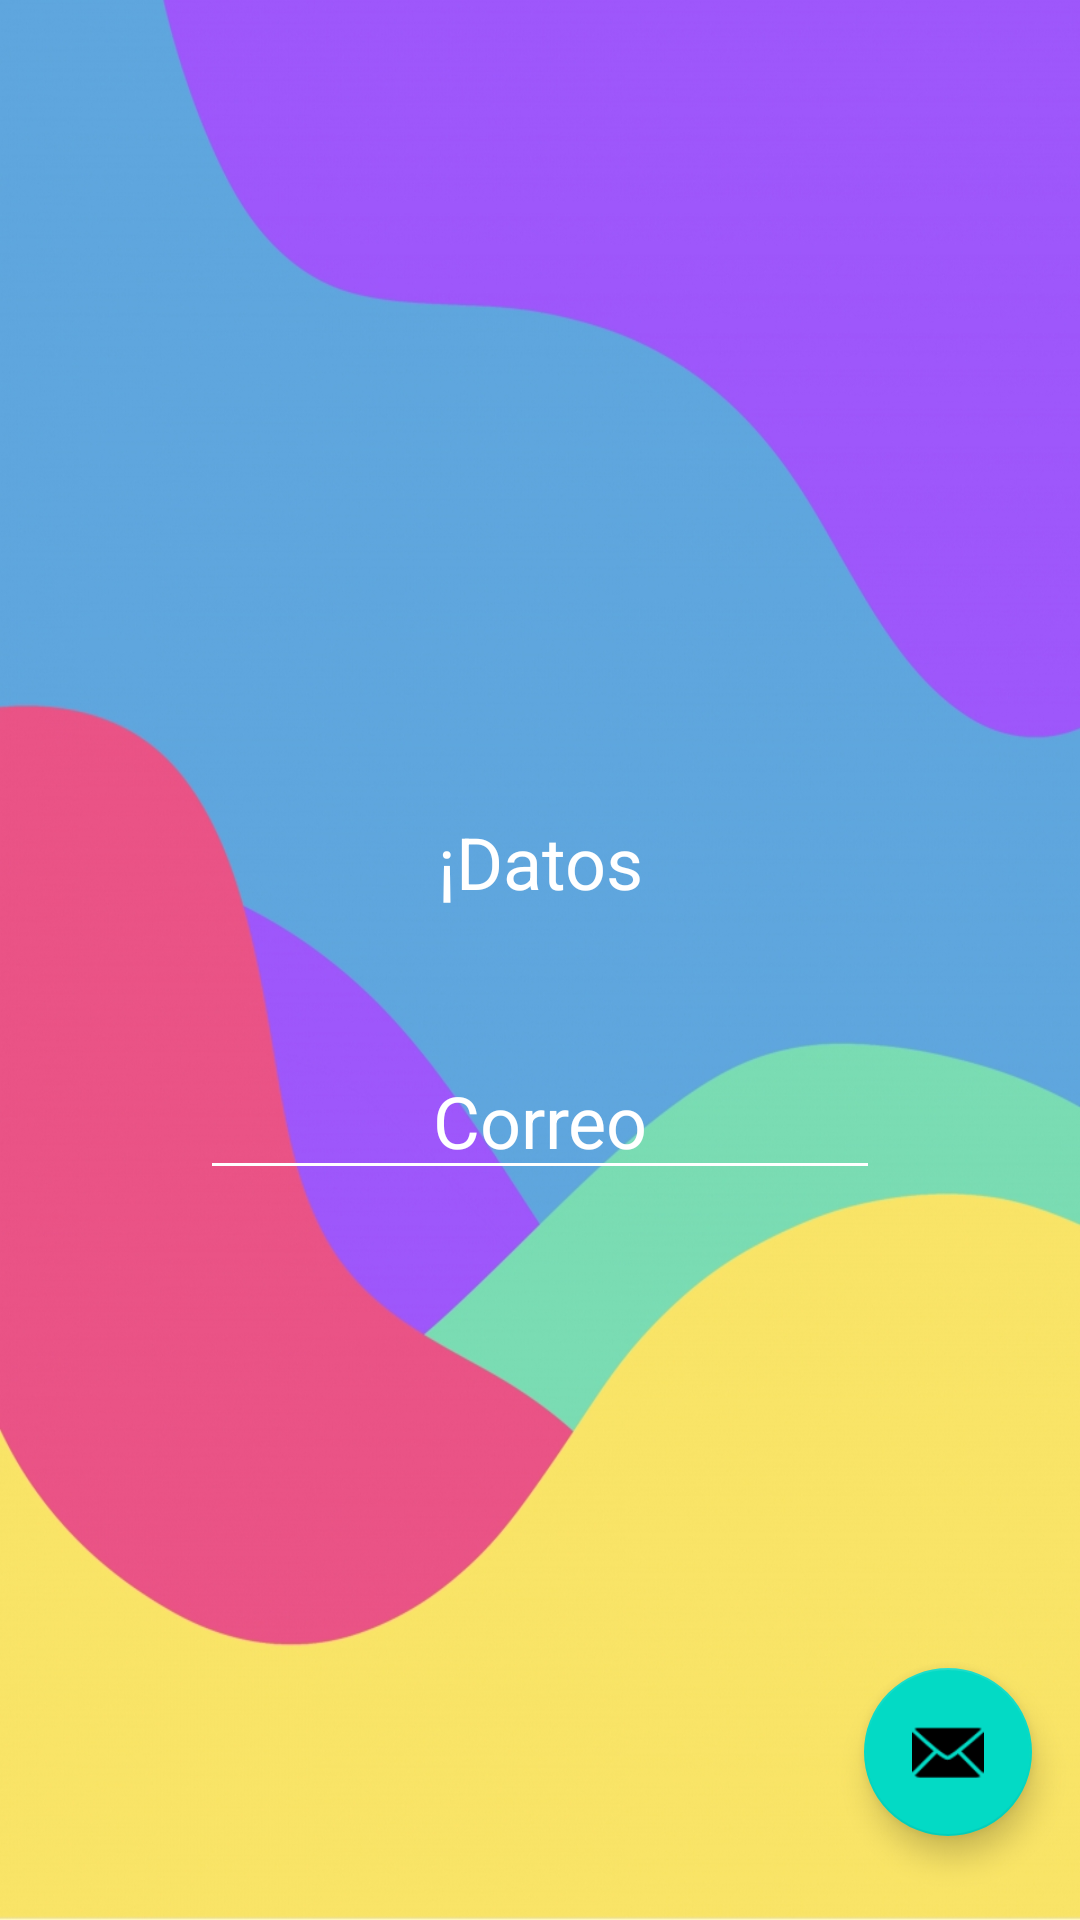

Point at icon controls on the screen. Image size 1080x1920, points as (x,y).
email: (948,1752)
